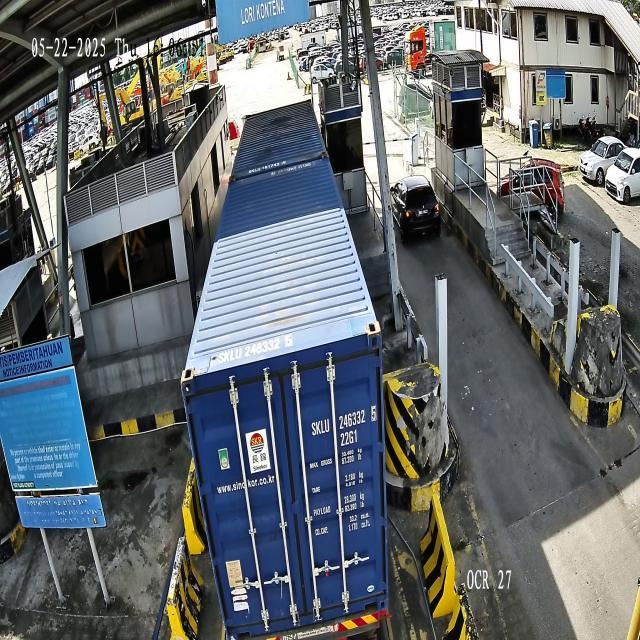ISO: (341, 428, 358, 448)
container_number: (310, 404, 378, 438)
